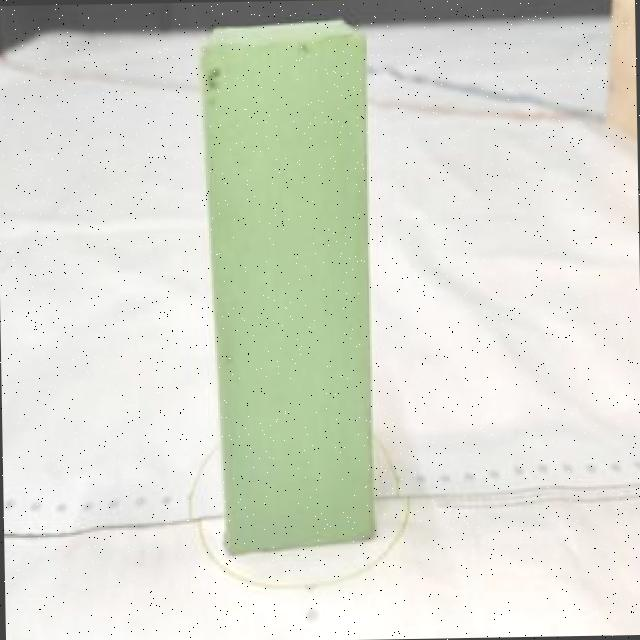greenbox: (203, 19, 377, 554)
